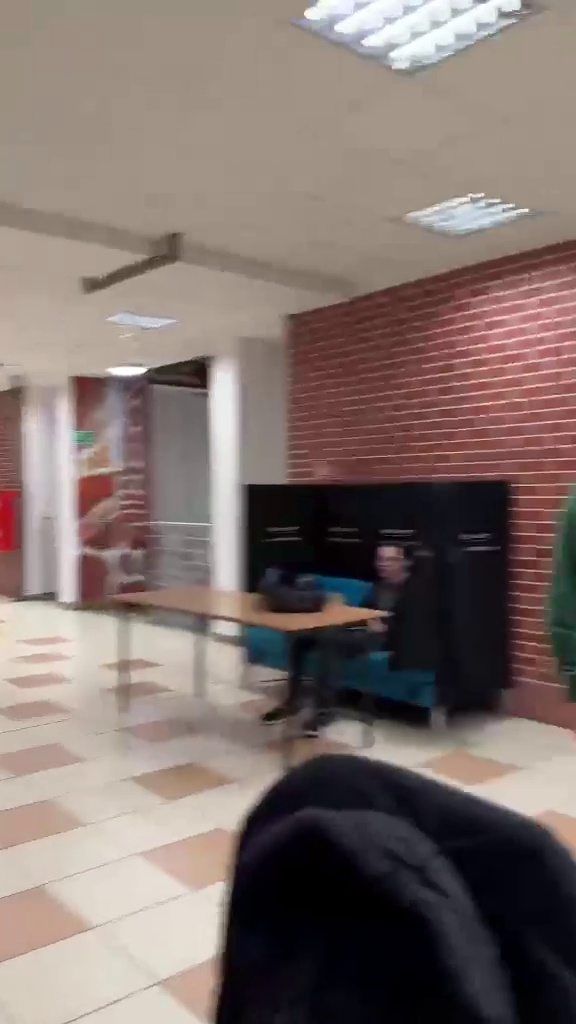no vest: (299, 532, 430, 737)
